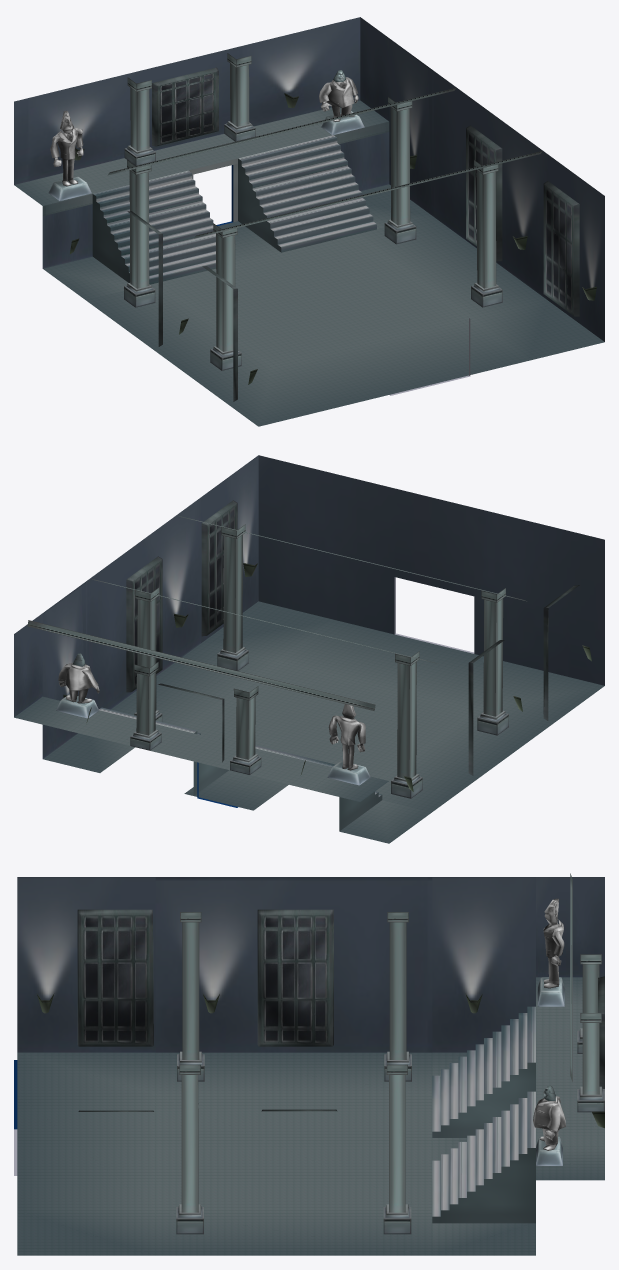
File: boss_suit_office.glb
3 renders of one model, top to bottom at view 1: azimuth 30°, elevation 25°; view 2: azimuth 150°, elevation 25°; view 3: azimuth 270°, elevation 25°, orthographic. The views are drawn at different scales.
Parts seen in each view (by area): view 1: floor, o10, o9, o92, o90, o91_1, o20_4, o20_3, o91, o8, o20_2, o60_5 (+20 smaller); view 2: floor, o7, o10, o20_3, o19, o60, o20_2, o60_5, o60_4, o60_1, o60_3, o60_2 (+11 smaller); view 3: floor, o8, o20_1, o20, o91, o91_1, o17, o60_5, o60, o60_4, o16, o60_1 (+11 smaller).
Part boxes in pixels (bbox=[...]): floor: bbox=[14, 100, 604, 426]; o10: bbox=[339, 17, 604, 341]; o9: bbox=[14, 17, 360, 184]; o92: bbox=[241, 138, 376, 252]; o90: bbox=[96, 173, 215, 284]; o91_1: bbox=[238, 135, 376, 247]; o20_4: bbox=[152, 67, 218, 146]; o20_3: bbox=[543, 181, 579, 316]; o91: bbox=[93, 170, 215, 279]; o8: bbox=[42, 204, 92, 268]; o20_2: bbox=[466, 125, 502, 261]; o60_5: bbox=[474, 160, 498, 288]; floor: bbox=[14, 601, 604, 843]; o7: bbox=[258, 455, 604, 685]; o10: bbox=[14, 455, 258, 758]; o20_3: bbox=[201, 500, 237, 636]; o19: bbox=[27, 620, 375, 710]; o60: bbox=[395, 651, 419, 778]; o20_2: bbox=[126, 556, 162, 692]; o60_5: bbox=[221, 524, 245, 652]; o60_4: bbox=[481, 588, 505, 716]; o60_1: bbox=[135, 587, 159, 710]; o60_3: bbox=[233, 686, 258, 759]; o60_2: bbox=[134, 662, 158, 735]; floor: bbox=[17, 977, 604, 1255]; o8: bbox=[17, 877, 604, 1052]; o20_1: bbox=[257, 909, 333, 1046]; o20: bbox=[77, 909, 153, 1046]; o91: bbox=[432, 1006, 535, 1131]; o91_1: bbox=[432, 1091, 535, 1216]; o17: bbox=[432, 1148, 535, 1223]; o60_5: bbox=[179, 1064, 200, 1212]; o60: bbox=[387, 912, 408, 1059]; o60_4: bbox=[180, 912, 201, 1059]; o16: bbox=[432, 1062, 535, 1137]; o60_1: bbox=[386, 1064, 407, 1212].
Bounding box in the file's own units: 69.7 × 28.72 × 85.5.
Materials: 7 (5 with a texture image).
